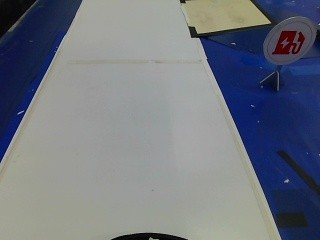battery: (260, 13, 314, 68)
